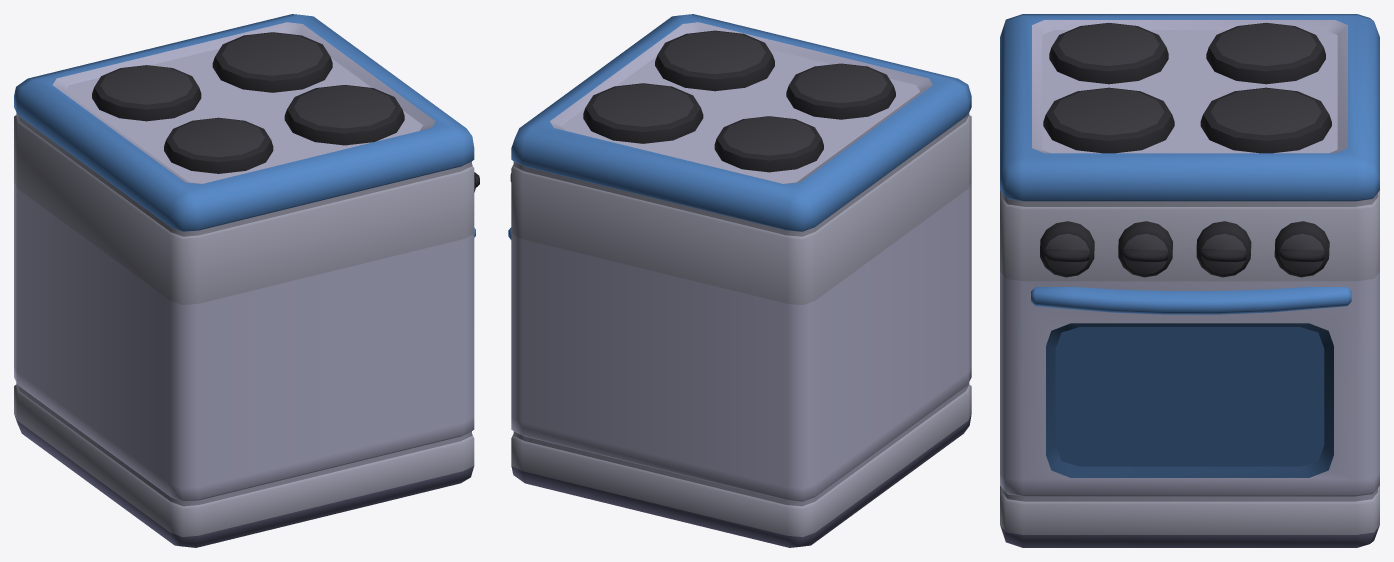
Rendered from gas-stove.glb.
3 views of the same model, side by side, from view 1: azimuth 30°, elevation 25°; view 2: azimuth 150°, elevation 25°; view 3: azimuth 270°, elevation 25° (orthographic). The views are drawn at different scales.
Parts seen in each view (by area): view 1: gas_stove; view 2: gas_stove; view 3: gas_stove.
Boxes of the visible parts, x1,y1,x2,y2 form: gas_stove: (14, 14, 479, 547); gas_stove: (508, 14, 971, 547); gas_stove: (1000, 14, 1379, 547).
Size of the model in its own units: 1.08 by 1.14 by 0.9904.
